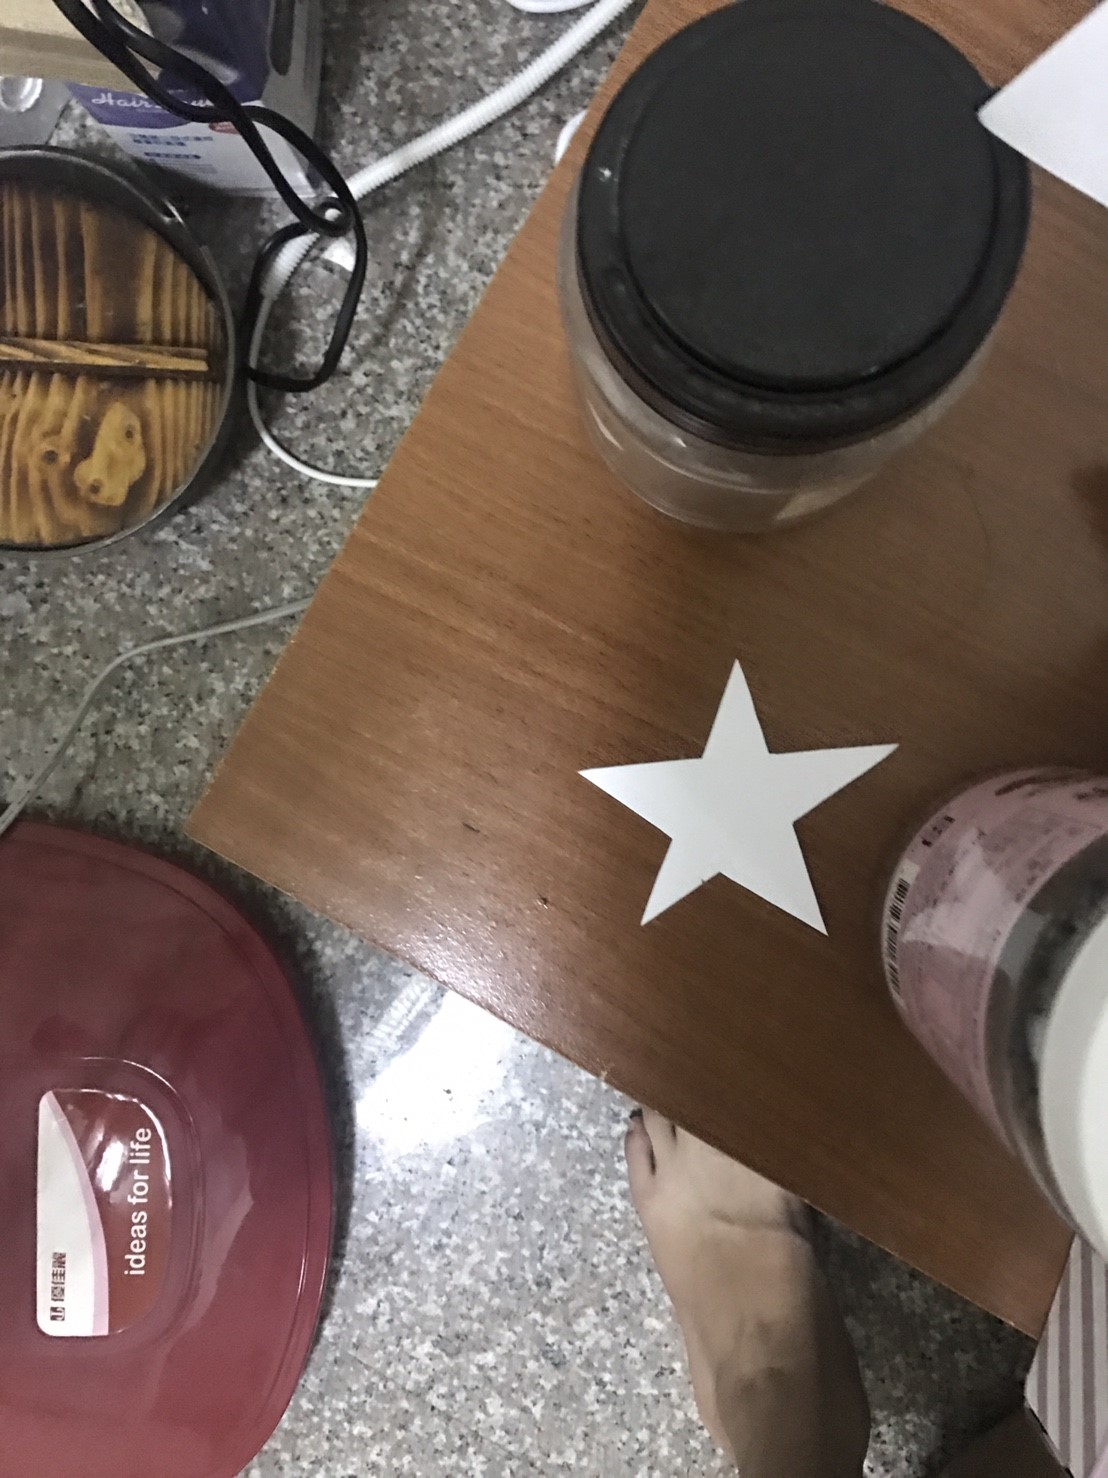star: (555, 658, 910, 955)
